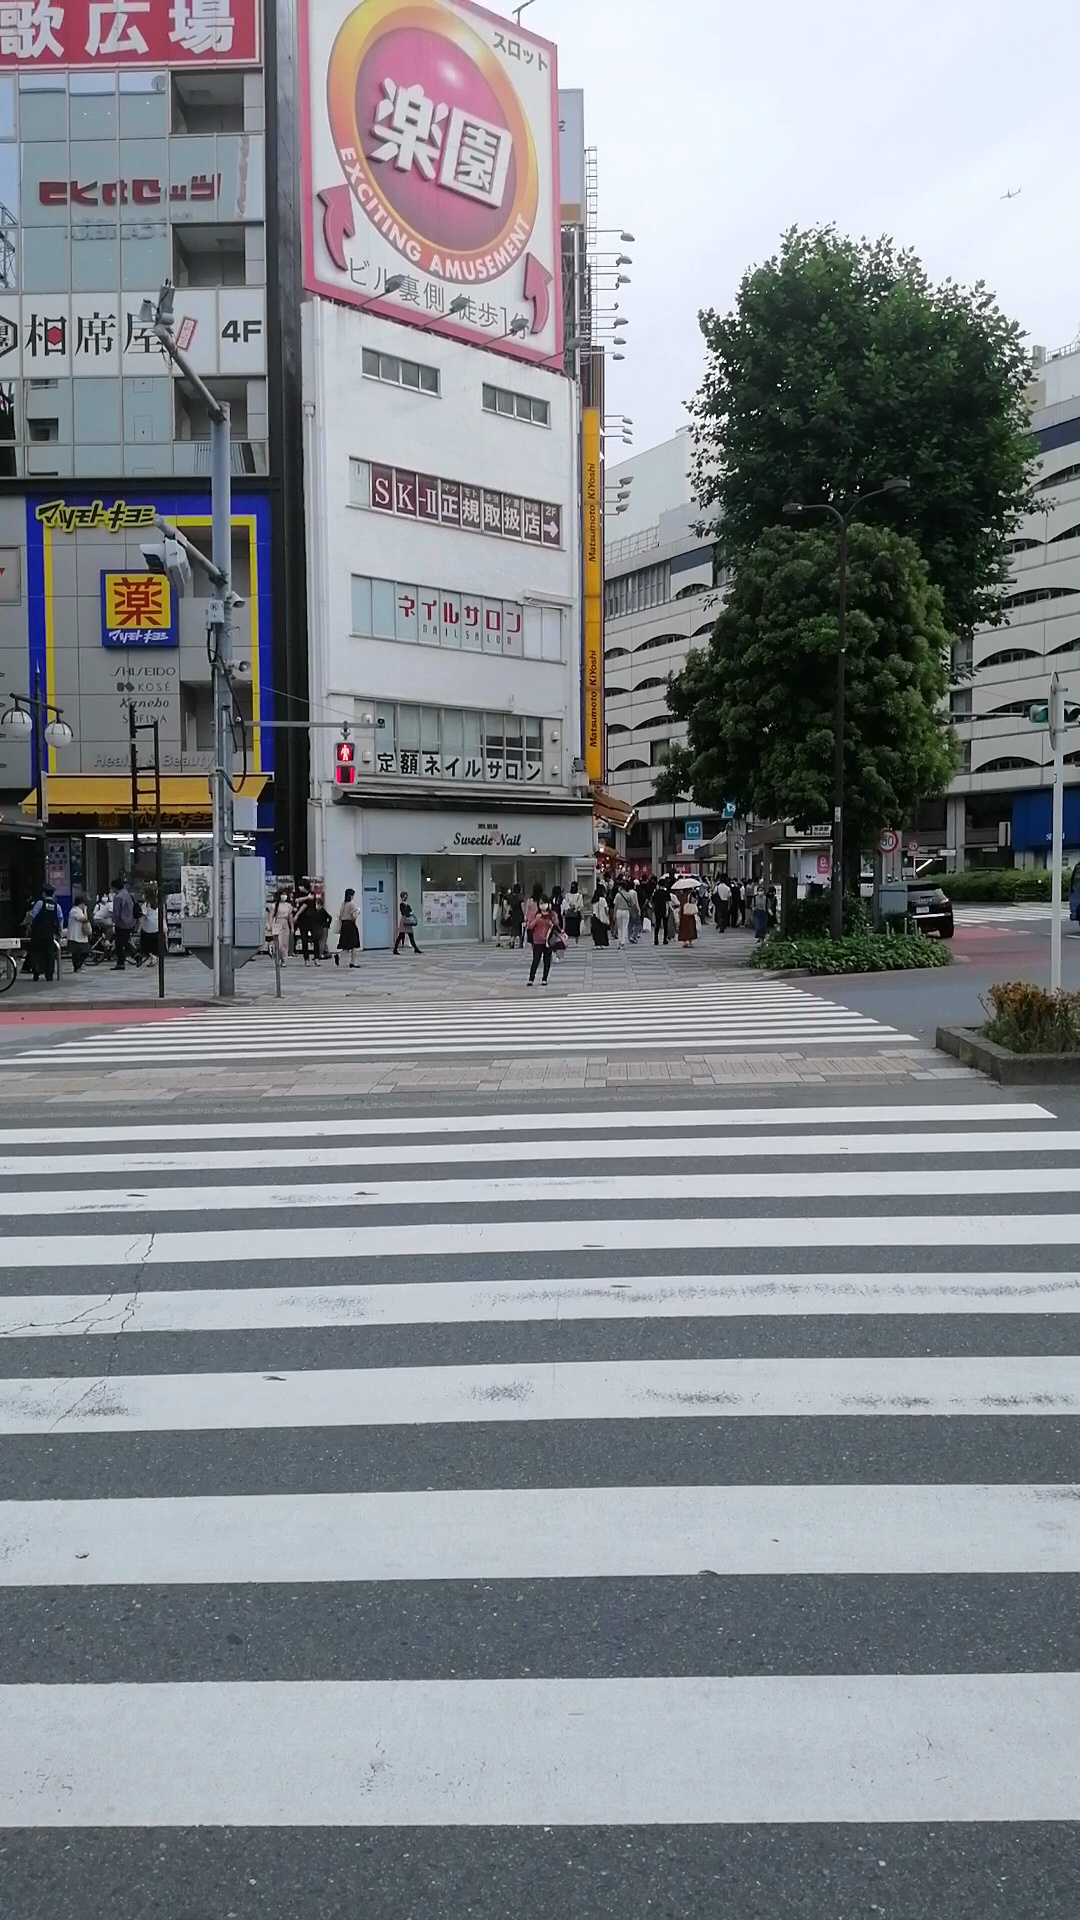red: (331, 741, 357, 787)
